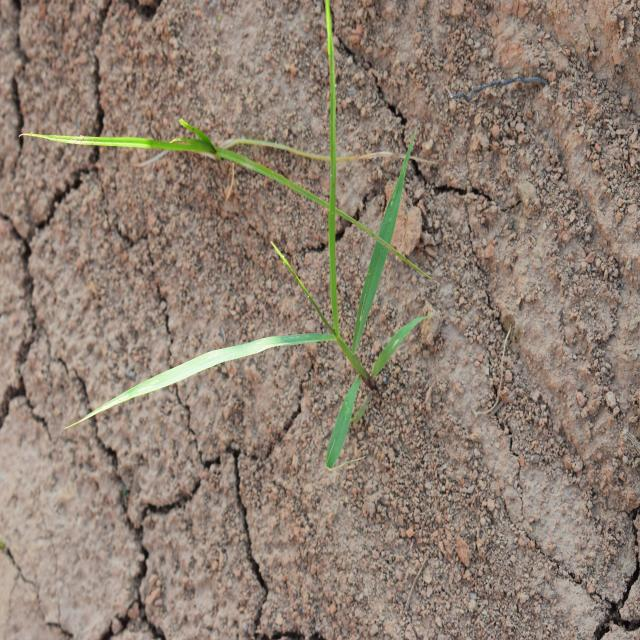green_foxtail: (163, 150, 422, 460)
